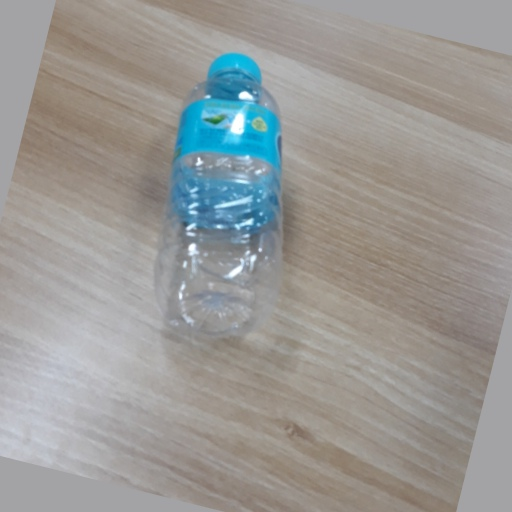Plastic_0: (156, 53, 286, 344)
